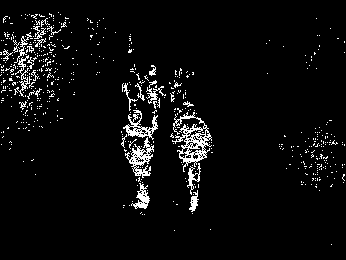person: (172, 102, 213, 213), (119, 108, 155, 210), (139, 63, 166, 131), (121, 62, 143, 116)
